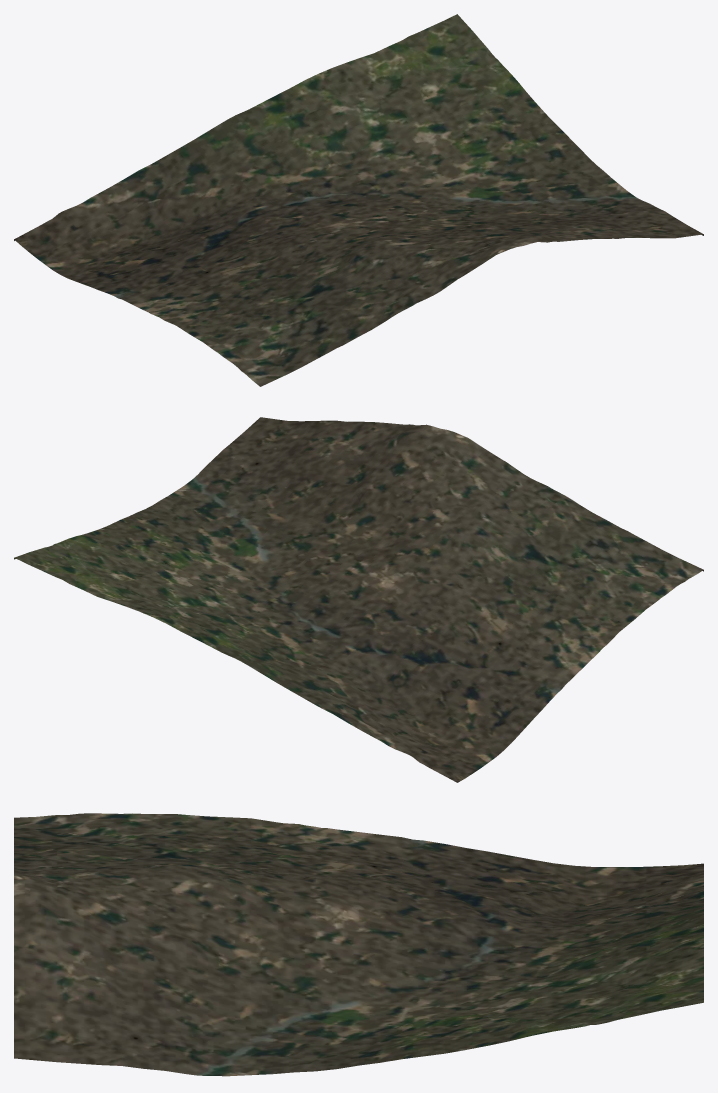
3 renders of one model, top to bottom at view 1: azimuth 30°, elevation 25°; view 2: azimuth 150°, elevation 25°; view 3: azimuth 270°, elevation 25°, orthographic. The views are drawn at different scales.
Bounding box in the file's own units: 250 × 65.41 × 241.
Materials: 1 (1 with a texture image).
